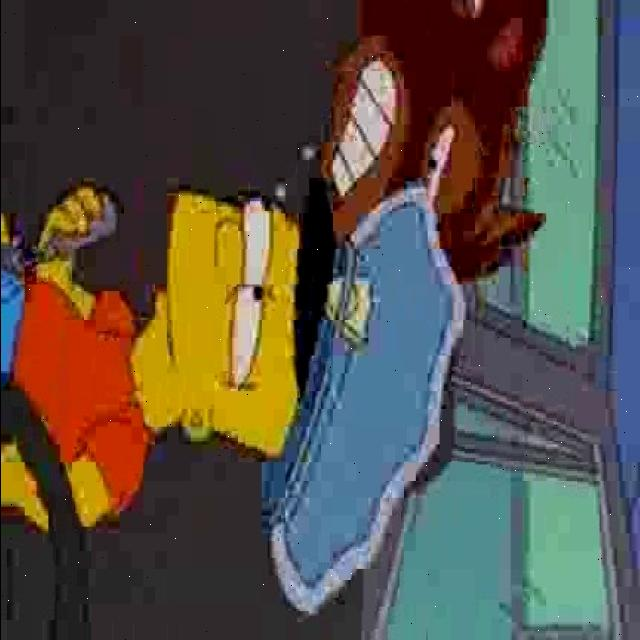Bart Simpson: (128, 187, 308, 458)
